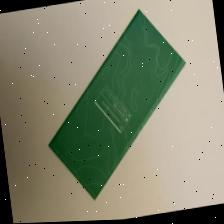paper: (0, 0, 220, 216)
